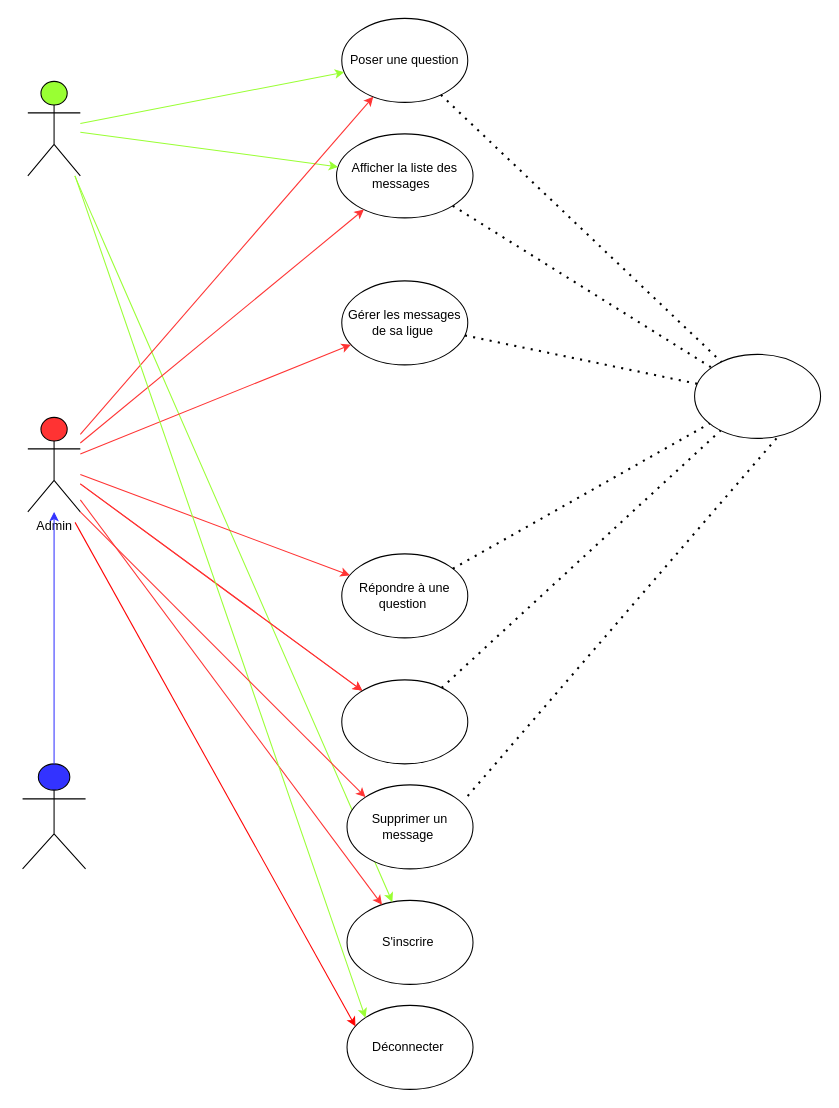
This 839x1108 diagram has some shape labels left out. The box of each missing label's shape, as (x1, y1, x2, y2) in pixels:
Modifier un message: (341, 679, 468, 764)
Se connecter: (694, 353, 821, 438)
Super admin: (22, 763, 86, 869)
Utilisateur: (27, 80, 80, 176)
